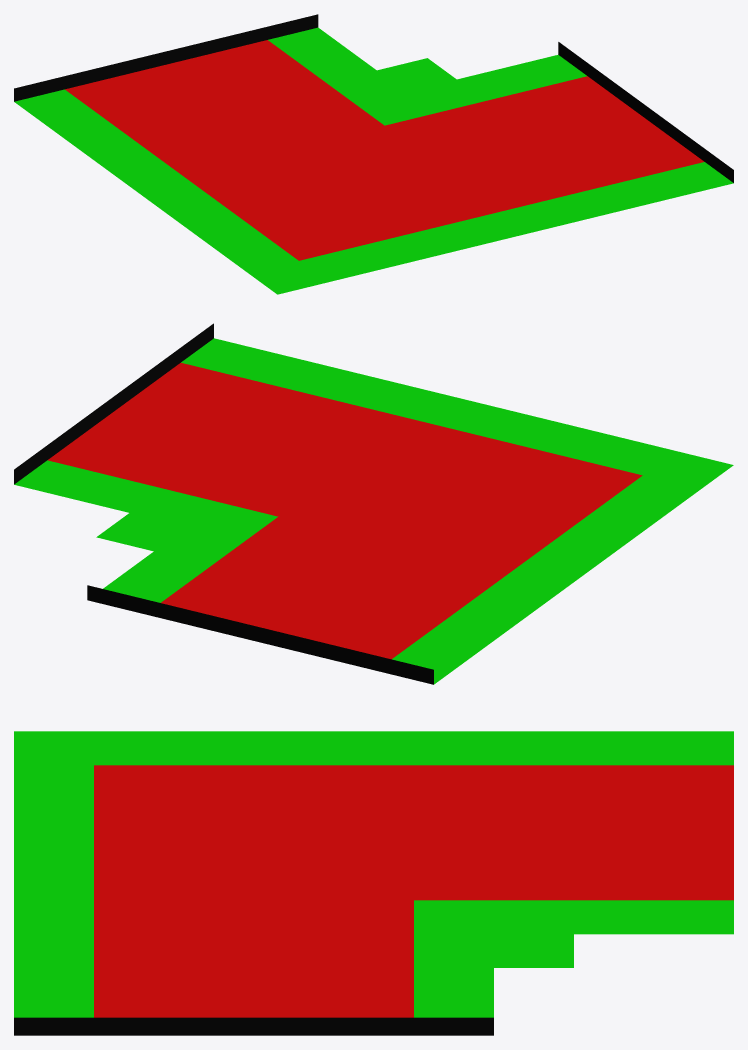
File: Corner_ceiling.fbx
The picture shows the model from 3 angles, top to bottom: view 1: azimuth 30°, elevation 25°; view 2: azimuth 150°, elevation 25°; view 3: azimuth 270°, elevation 25°; orthographic projection. The views are drawn at different scales.
Visible parts, largest first — view 1: Corner_Ceiling; view 2: Corner_Ceiling; view 3: Corner_Ceiling.
Boxes of the visible parts, x1,y1,x2,y2 form: Corner_Ceiling: (14, 14, 733, 294); Corner_Ceiling: (14, 323, 733, 684); Corner_Ceiling: (14, 731, 733, 1035).
Bounding box in the file's own units: 9 × 0.25 × 9.
